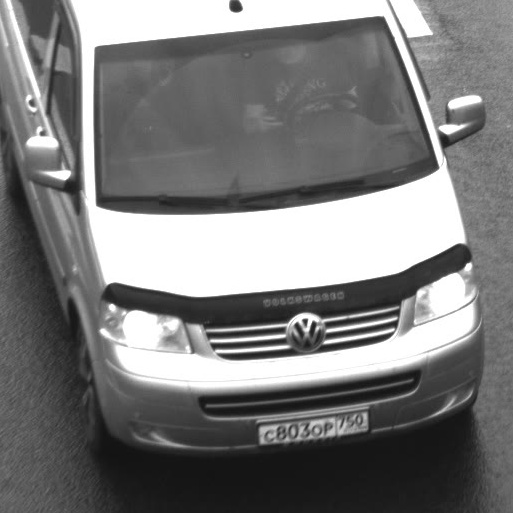plate: (245, 397, 380, 454)
